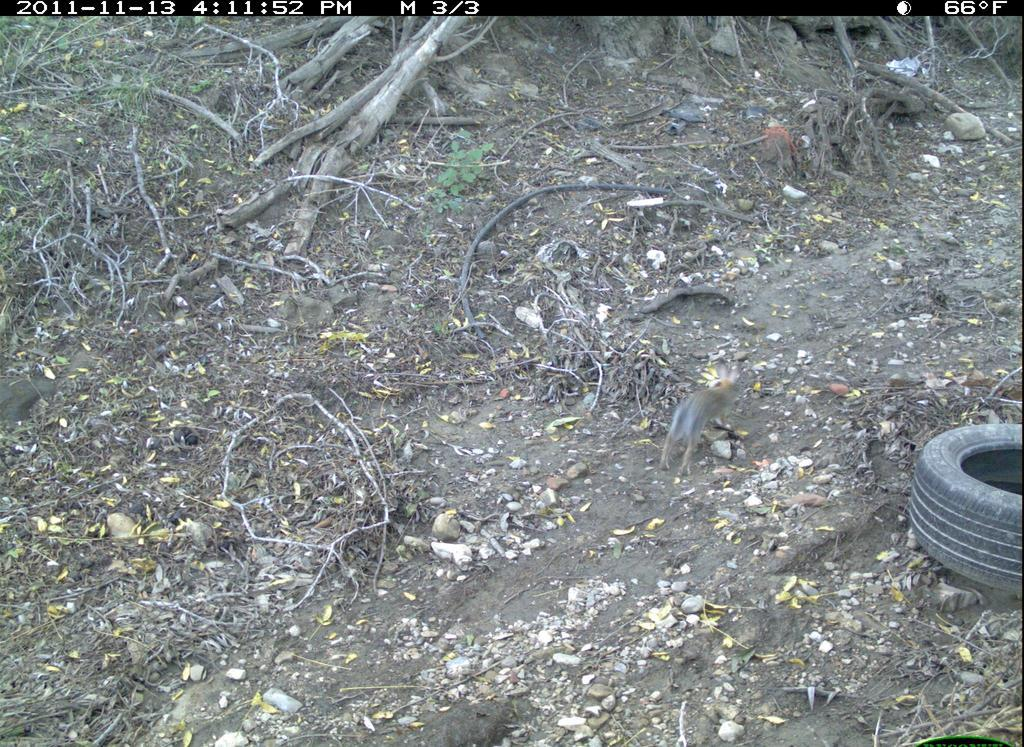rabbit: (644, 365, 765, 479)
